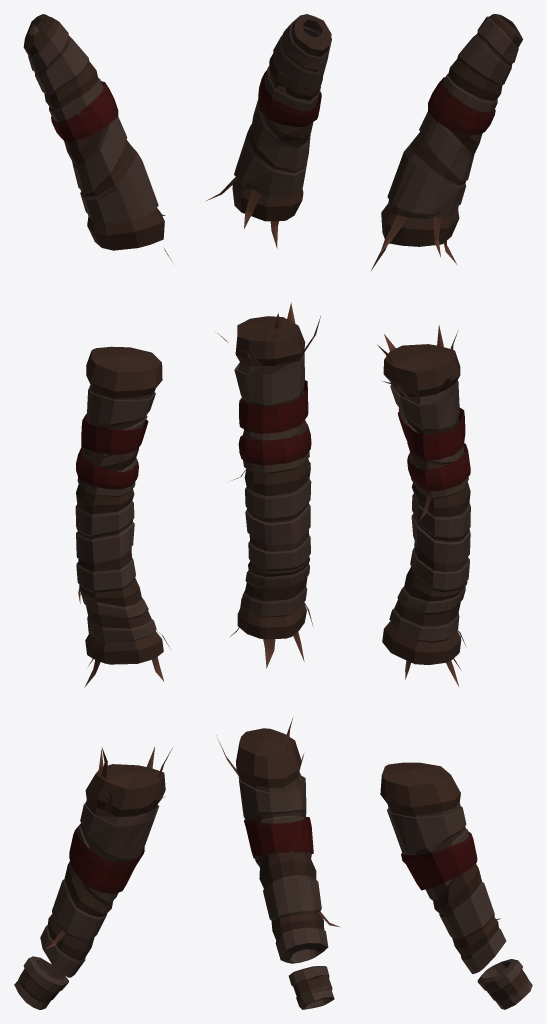
File: mediumBowVikingHandle.glb
3 renders of one model, left to right at view 1: azimuth 90°, elevation 25°; view 2: azimuth 210°, elevation 25°; view 3: azimuth 270°, elevation 25°, orthographic.
Visible parts, largest first — view 1: mediumBowVikingHandle; view 2: mediumBowVikingHandle; view 3: mediumBowVikingHandle.
Boxes of the visible parts, x1,y1,x2,y2 form: mediumBowVikingHandle: [14, 14, 173, 1009]; mediumBowVikingHandle: [205, 14, 340, 1009]; mediumBowVikingHandle: [370, 14, 532, 1009].
Size of the model in its own units: 0.108 by 1.12 by 0.1662.
